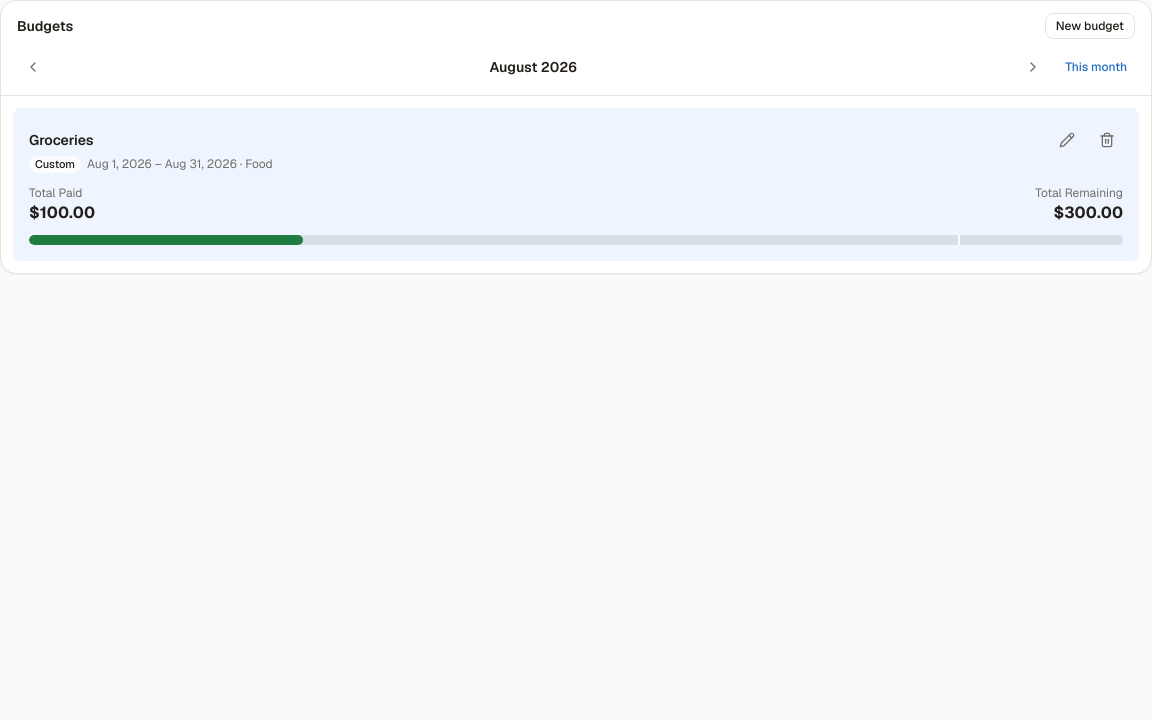
Test: BudgetSection › keeps a warning set outside the usual choices
The image size is (1152, 720).
Click the button named "Edit ".
click(1067, 140)  # box [1051,124,1083,156]
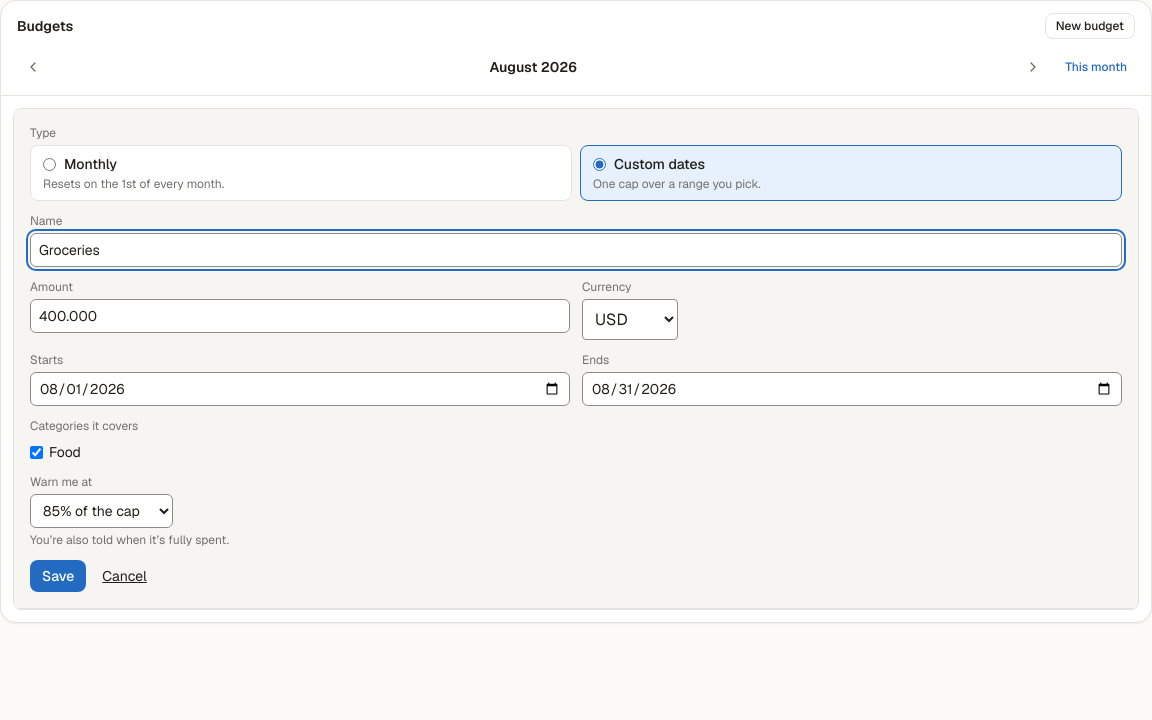
Expected: the dropdown labelled "Warn me at" shows "85% of the cap", [30,494,173,528]
